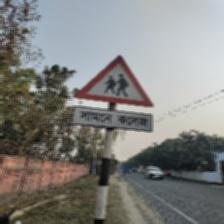College-in-front: (52, 63, 179, 142)
